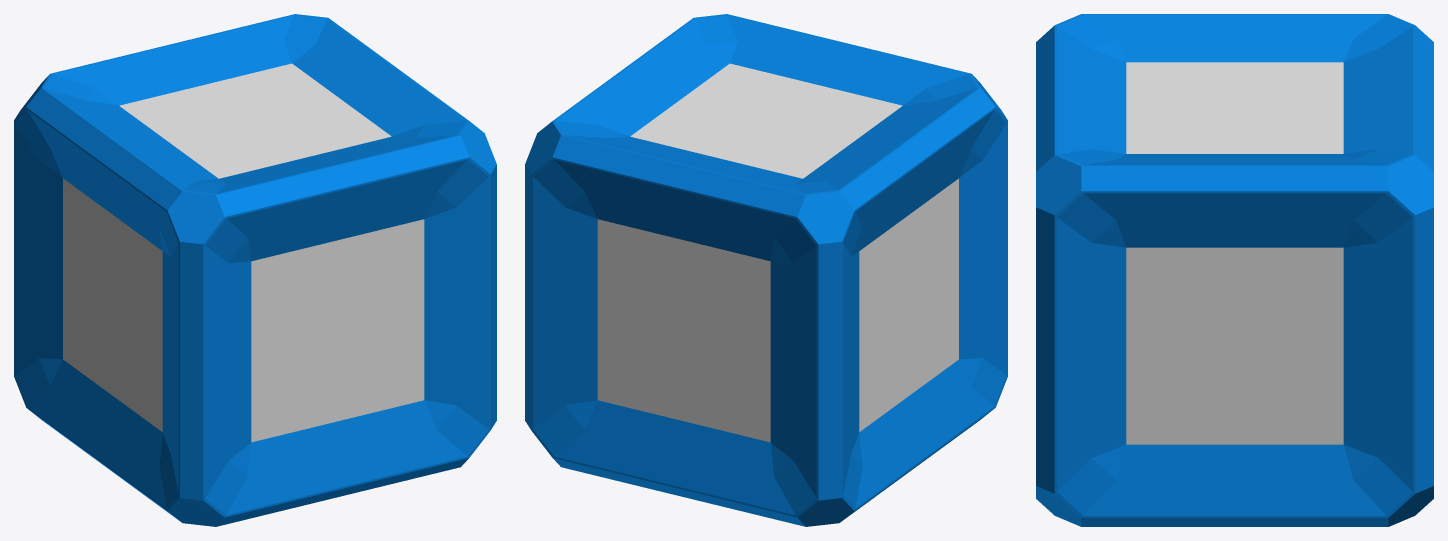
The model's file is ColourBlock_EXPORT.fbx.
3 renders of one model, left to right at view 1: azimuth 30°, elevation 25°; view 2: azimuth 150°, elevation 25°; view 3: azimuth 270°, elevation 25°, orthographic. The views are drawn at different scales.
Visible parts, largest first — view 1: Cube; view 2: Cube; view 3: Cube.
Part boxes in pixels (x1,y1,x2,y2): Cube: (14, 14, 496, 526); Cube: (525, 14, 1007, 526); Cube: (1036, 14, 1433, 526).
Bounding box in the file's own units: 200 × 200 × 200.
